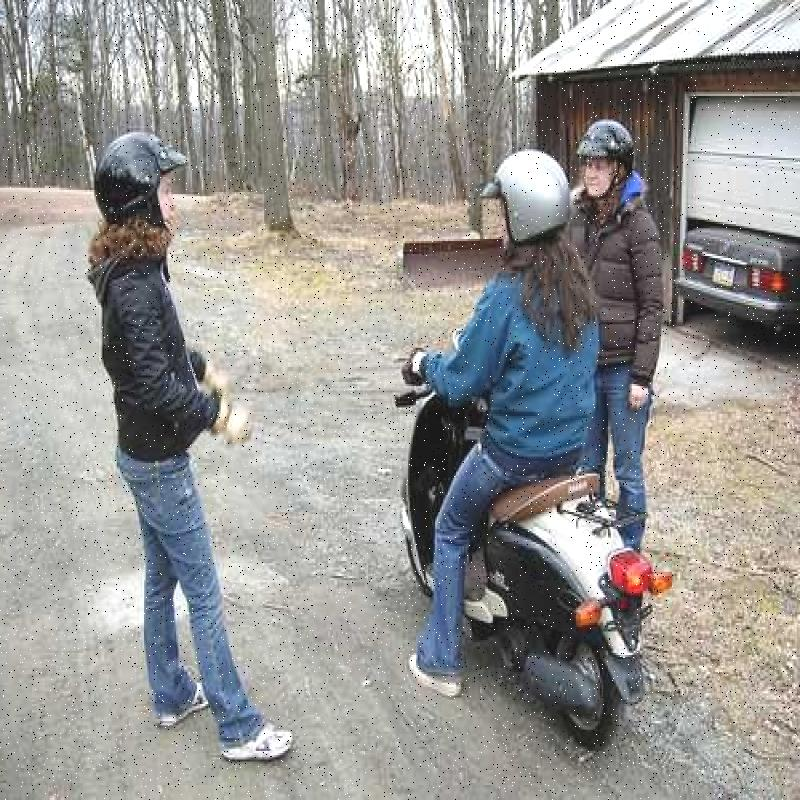bike: (386, 306, 654, 726)
